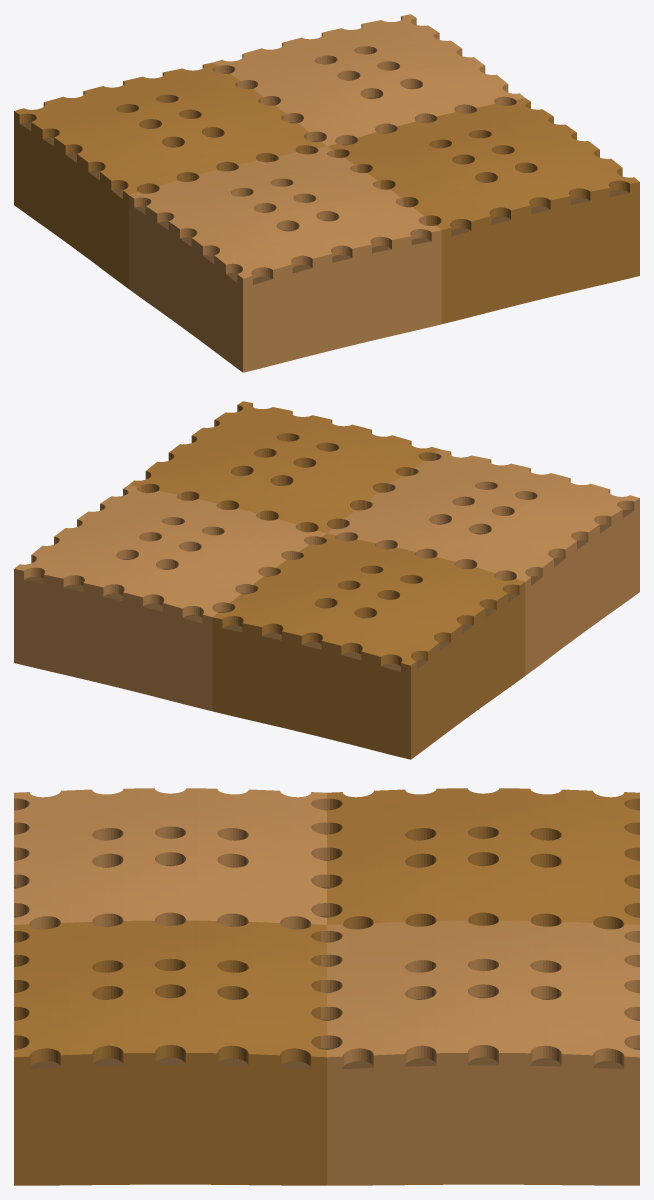
The model's file is floor.fbx.
3 views of the same model, one above another, from view 1: azimuth 30°, elevation 25°; view 2: azimuth 150°, elevation 25°; view 3: azimuth 270°, elevation 25° (orthographic). The views are drawn at different scales.
Parts seen in each view (by area): view 1: Floor; view 2: Floor; view 3: Floor.
Part boxes in pixels (x1,y1,x2,y2): Floor: (14,14,639,372); Floor: (14,401,639,759); Floor: (14,788,639,1185).
Size of the model in its own units: 200 by 50 by 200.
